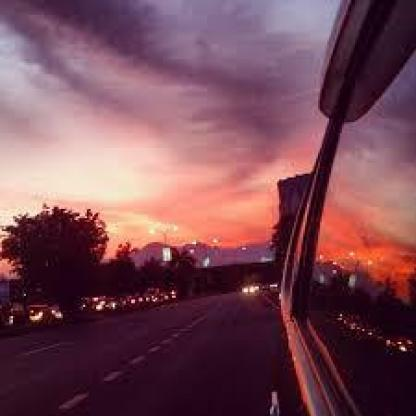other: (312, 204, 410, 295), (156, 186, 275, 252), (2, 281, 175, 319), (98, 192, 158, 245), (234, 274, 264, 304)
